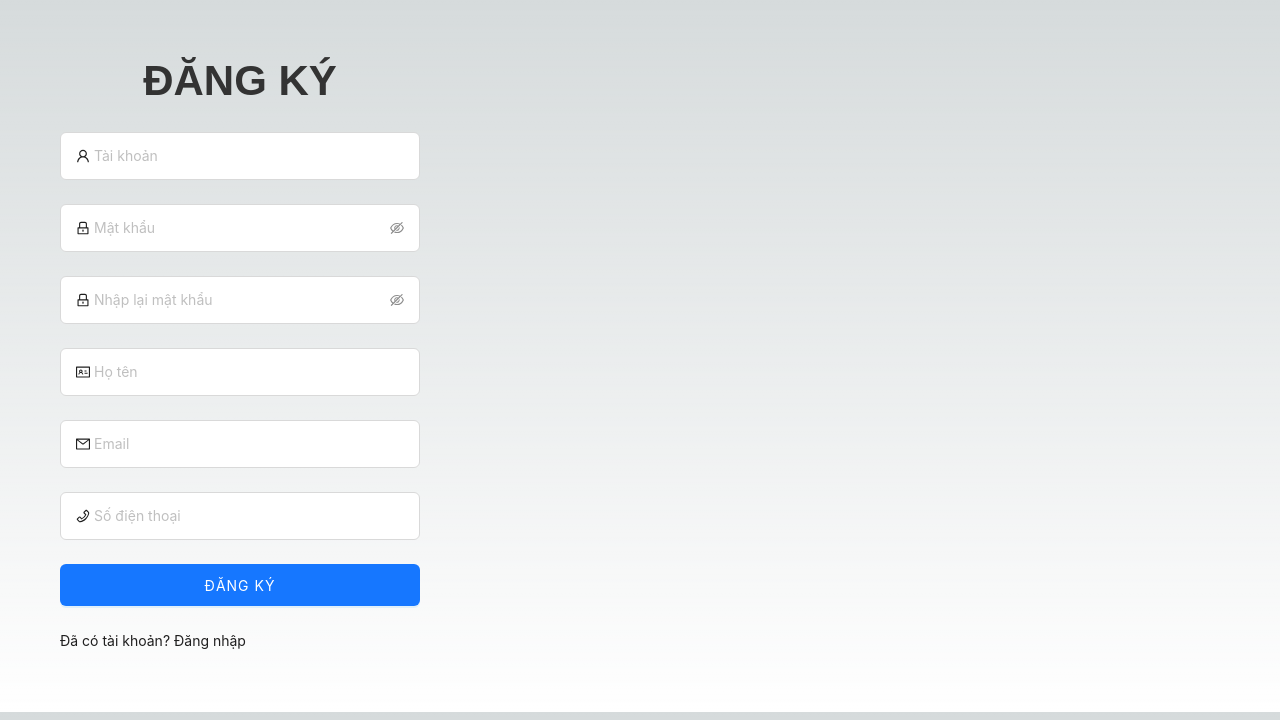
Scenario: DangKy Page › shows error message when password and confirm password do not match
The width and height of the screenshot is (1280, 720).
Click the button "ĐĂNG KÝ" at (240, 585), box [60,564,420,606]
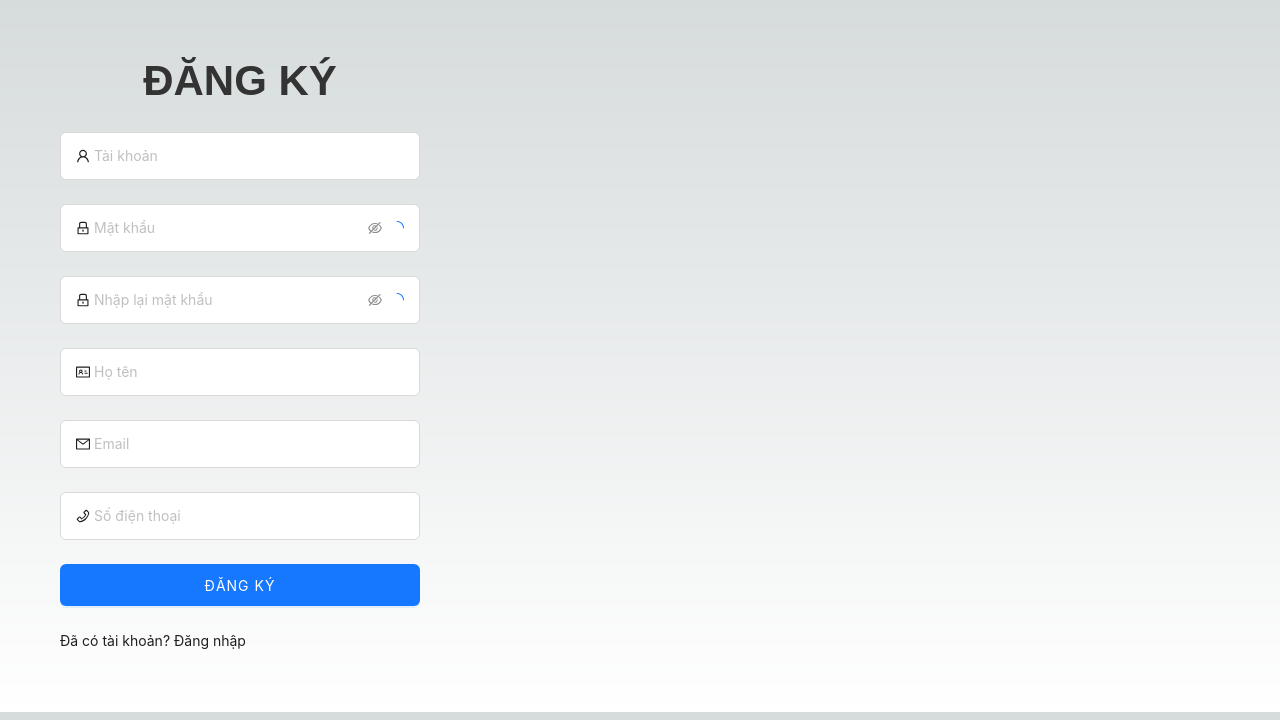
Type "password123" into the password field with placeholder "Mật khẩu" at (229, 228), box [94,217,364,239]
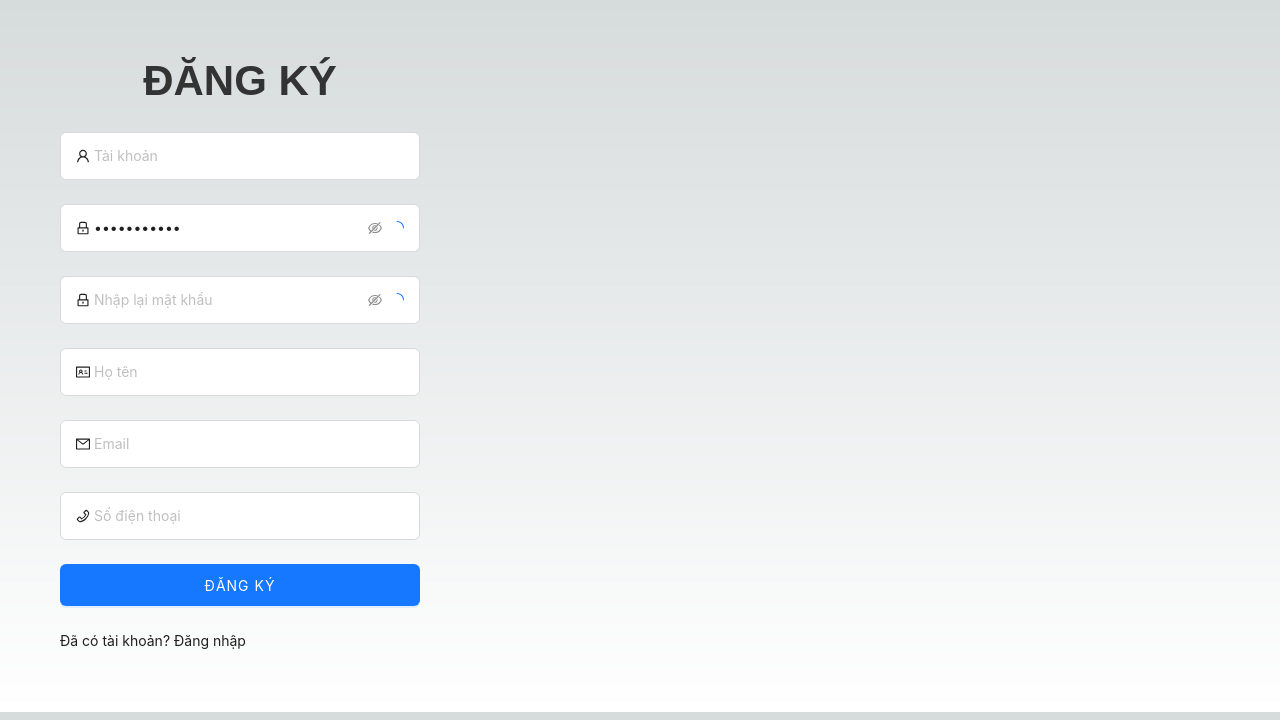
Type "password456" into the password field with placeholder "Nhập lại mật khẩu" at (229, 300), box [94,289,364,311]
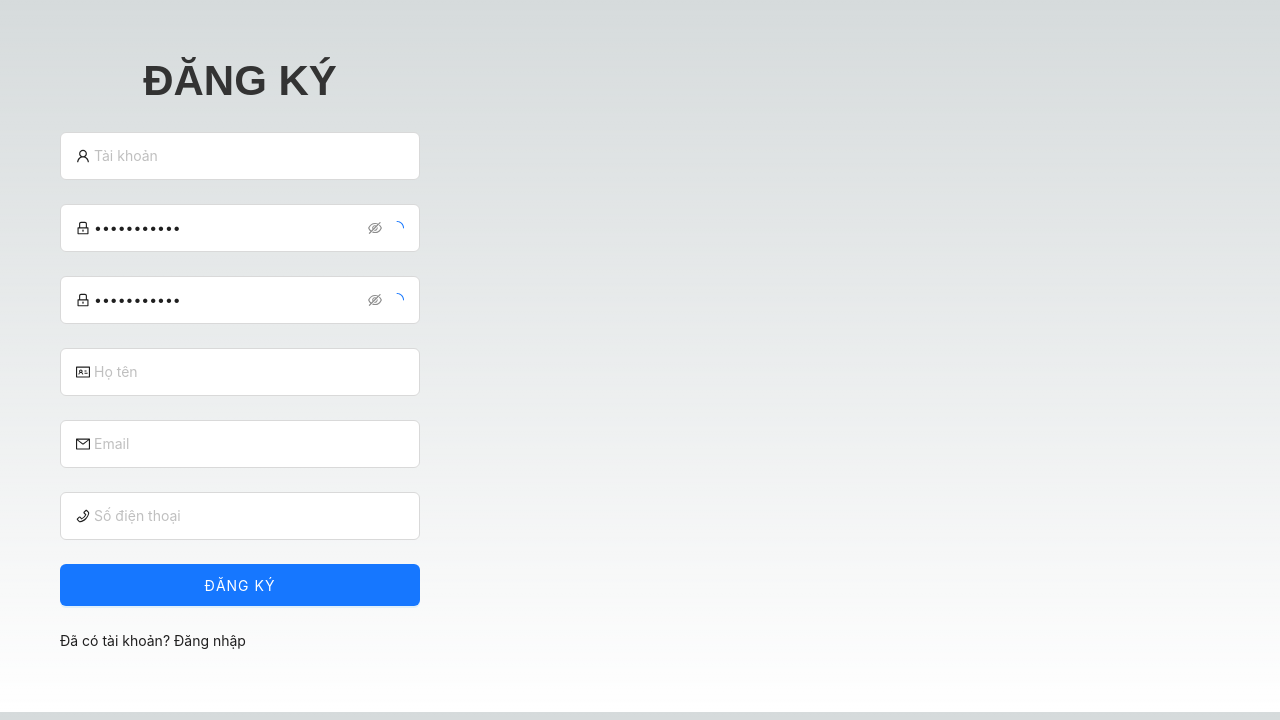
Type "abckasn" into the field with placeholder "Email" at (249, 444), box [94,433,404,455]
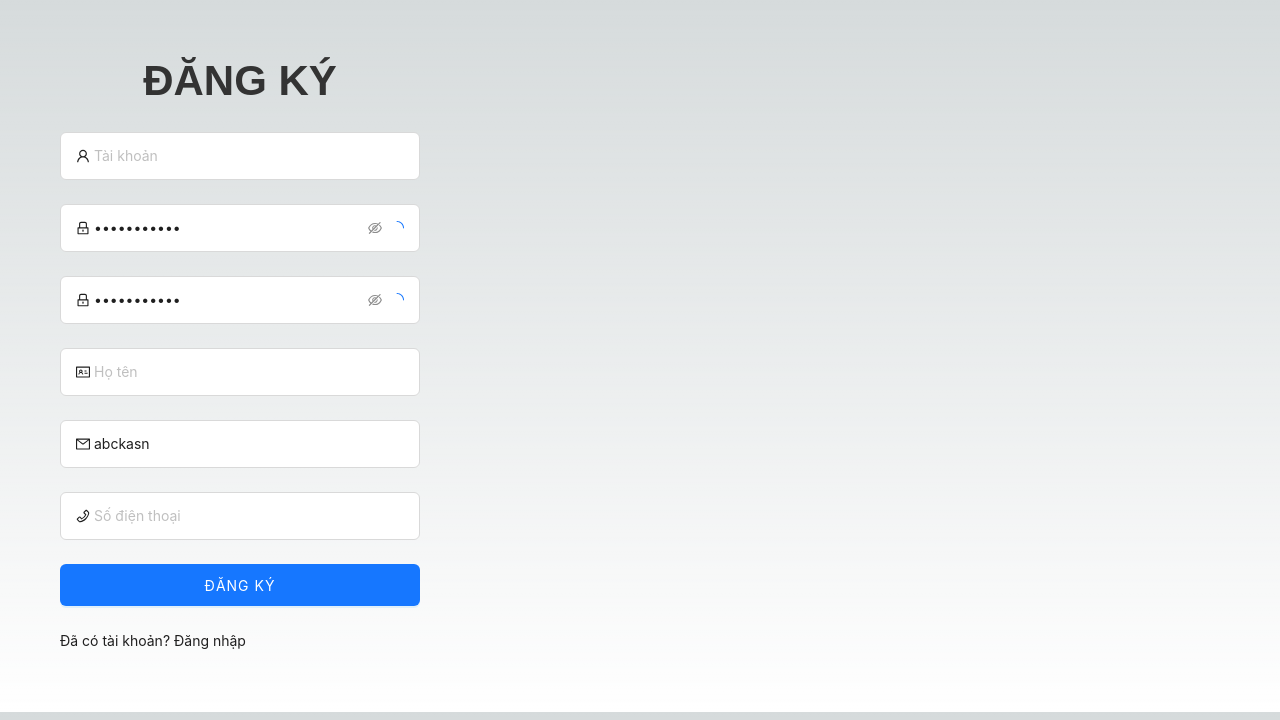
Type "0asdas12312" into the field with placeholder "Số điện thoại" at (249, 516), box [94,505,404,527]
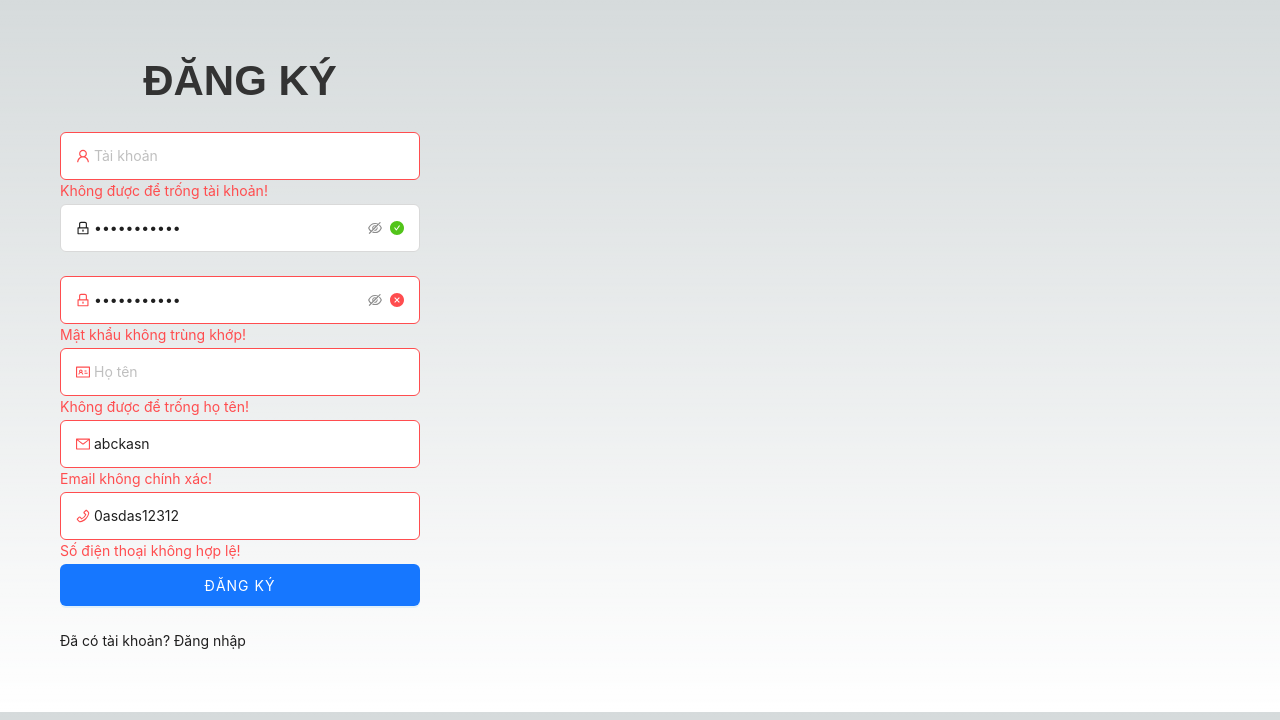
Expected: the text "Mật khẩu không trùng khớp!" is shown, [60,326,246,343]
Expected: the text "Email không chính xác!" is shown, [60,470,212,487]
Expected: the text "Số điện thoại không hợp lệ!" is shown, [60,542,241,559]
